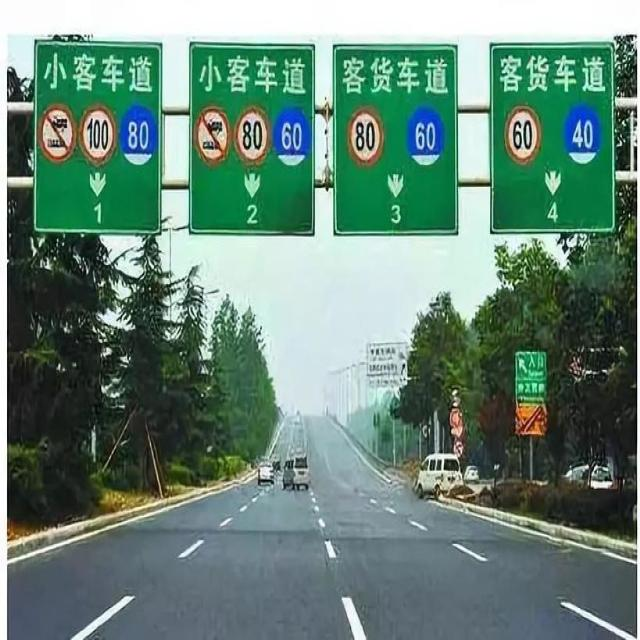speed limit 100: (78, 104, 117, 167)
speed limit 40: (563, 105, 602, 165)
speed limit 60: (503, 106, 542, 167), (407, 105, 445, 167), (274, 107, 313, 166)
speed limit 80: (347, 106, 385, 167), (121, 104, 157, 166), (234, 108, 272, 166)
